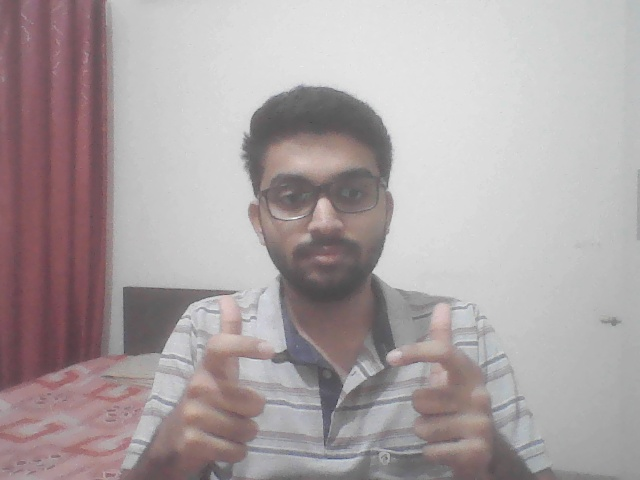big: (150, 287, 527, 478)
